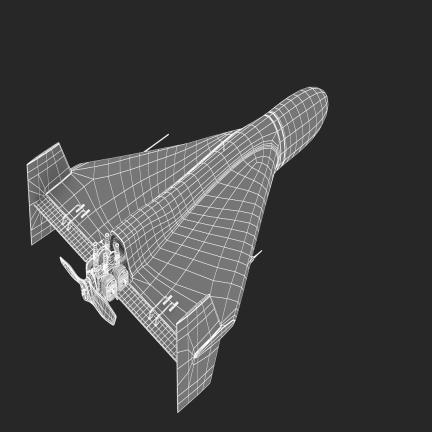Shahed: (27, 87, 328, 411)
